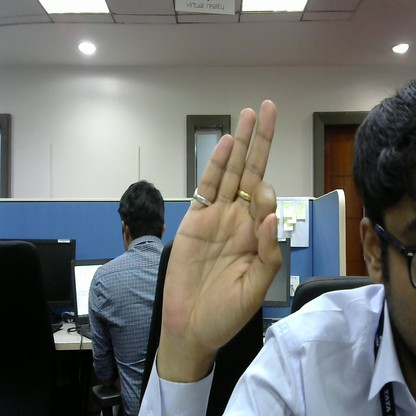f: (158, 99, 290, 356)
